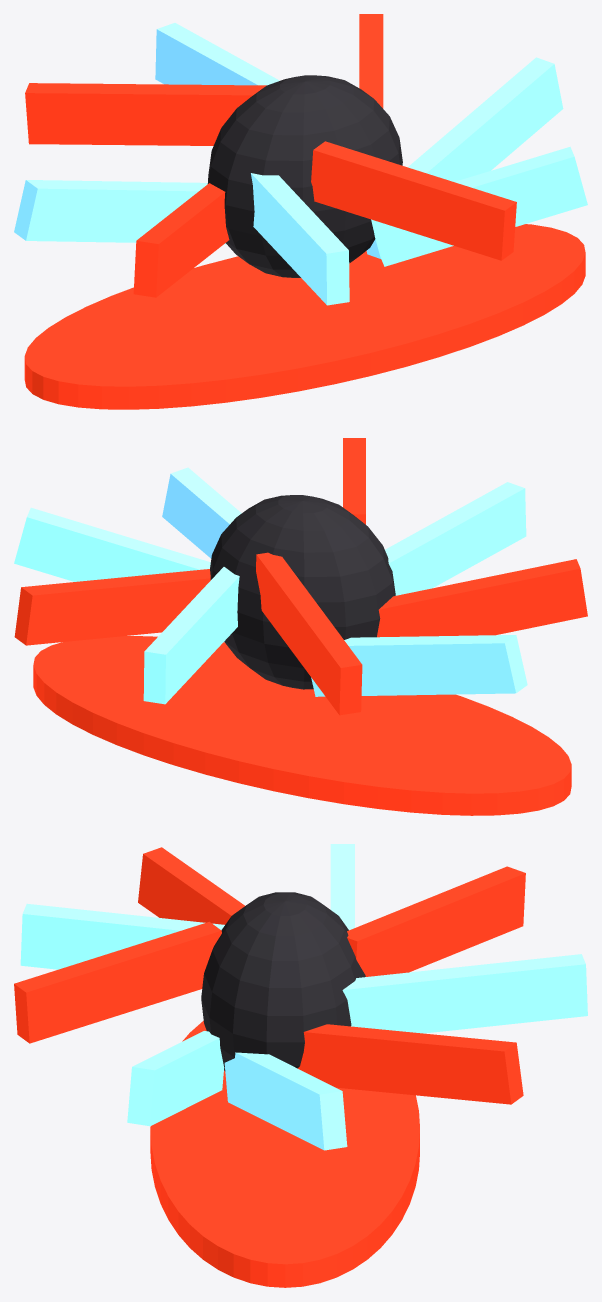
Rendered from void_impact.glb.
The picture shows the model from 3 angles, top to bottom: view 1: azimuth 30°, elevation 25°; view 2: azimuth 150°, elevation 25°; view 3: azimuth 270°, elevation 25°; orthographic projection. The views are drawn at different scales.
Parts seen in each view (by area): view 1: void impact siphon seal, void impact shadow heart, void impact torn veil 7, void impact torn veil 3, void impact torn veil 4, void impact torn veil 0, void impact torn veil 8, void impact torn veil 6, void impact torn veil 5, void impact torn veil 2, void impact torn veil 1; view 2: void impact siphon seal, void impact shadow heart, void impact torn veil 5, void impact torn veil 1, void impact torn veil 4, void impact torn veil 6, void impact torn veil 0, void impact torn veil 3, void impact torn veil 2, void impact torn veil 8, void impact torn veil 7; view 3: void impact siphon seal, void impact shadow heart, void impact torn veil 2, void impact torn veil 1, void impact torn veil 7, void impact torn veil 3, void impact torn veil 0, void impact torn veil 6, void impact torn veil 8, void impact torn veil 5, void impact torn veil 4.
Boxes of the visible parts, box(x1,y1,x2,y2) form: void impact siphon seal: box(24, 224, 585, 409); void impact shadow heart: box(207, 75, 402, 277); void impact torn veil 7: box(311, 141, 516, 260); void impact torn veil 3: box(25, 83, 266, 145); void impact torn veil 4: box(14, 180, 226, 244); void impact torn veil 0: box(366, 57, 563, 258); void impact torn veil 8: box(371, 146, 587, 266); void impact torn veil 6: box(251, 173, 349, 305); void impact torn veil 5: box(133, 183, 229, 297); void impact torn veil 2: box(155, 23, 279, 85); void impact torn veil 1: box(359, 14, 383, 108); void impact siphon seal: box(33, 636, 571, 815); void impact shadow heart: box(210, 495, 395, 689); void impact torn veil 5: box(377, 559, 587, 637); void impact torn veil 1: box(14, 569, 210, 645); void impact torn veil 4: box(311, 635, 527, 696); void impact torn veil 6: box(385, 482, 526, 595); void impact torn veil 0: box(14, 507, 210, 581); void impact torn veil 3: box(256, 552, 362, 715); void impact torn veil 2: box(143, 567, 239, 704); void impact torn veil 8: box(162, 467, 241, 558); void impact torn veil 7: box(343, 438, 365, 524); void impact siphon seal: box(150, 1021, 419, 1287); void impact shadow heart: box(201, 892, 365, 1071); void impact torn veil 2: box(342, 954, 587, 1033); void impact torn veil 1: box(298, 1024, 523, 1104); void impact torn veil 7: box(14, 921, 221, 1043); void impact torn veil 3: box(347, 866, 525, 976); void impact torn veil 0: box(224, 1052, 347, 1150); void impact torn veil 6: box(20, 903, 224, 969); void impact torn veil 8: box(127, 1031, 224, 1126); void impact torn veil 5: box(138, 847, 244, 924); void impact torn veil 4: box(330, 844, 354, 930).
Size of the model in its own units: 0.8472 by 0.362 by 0.7507.
